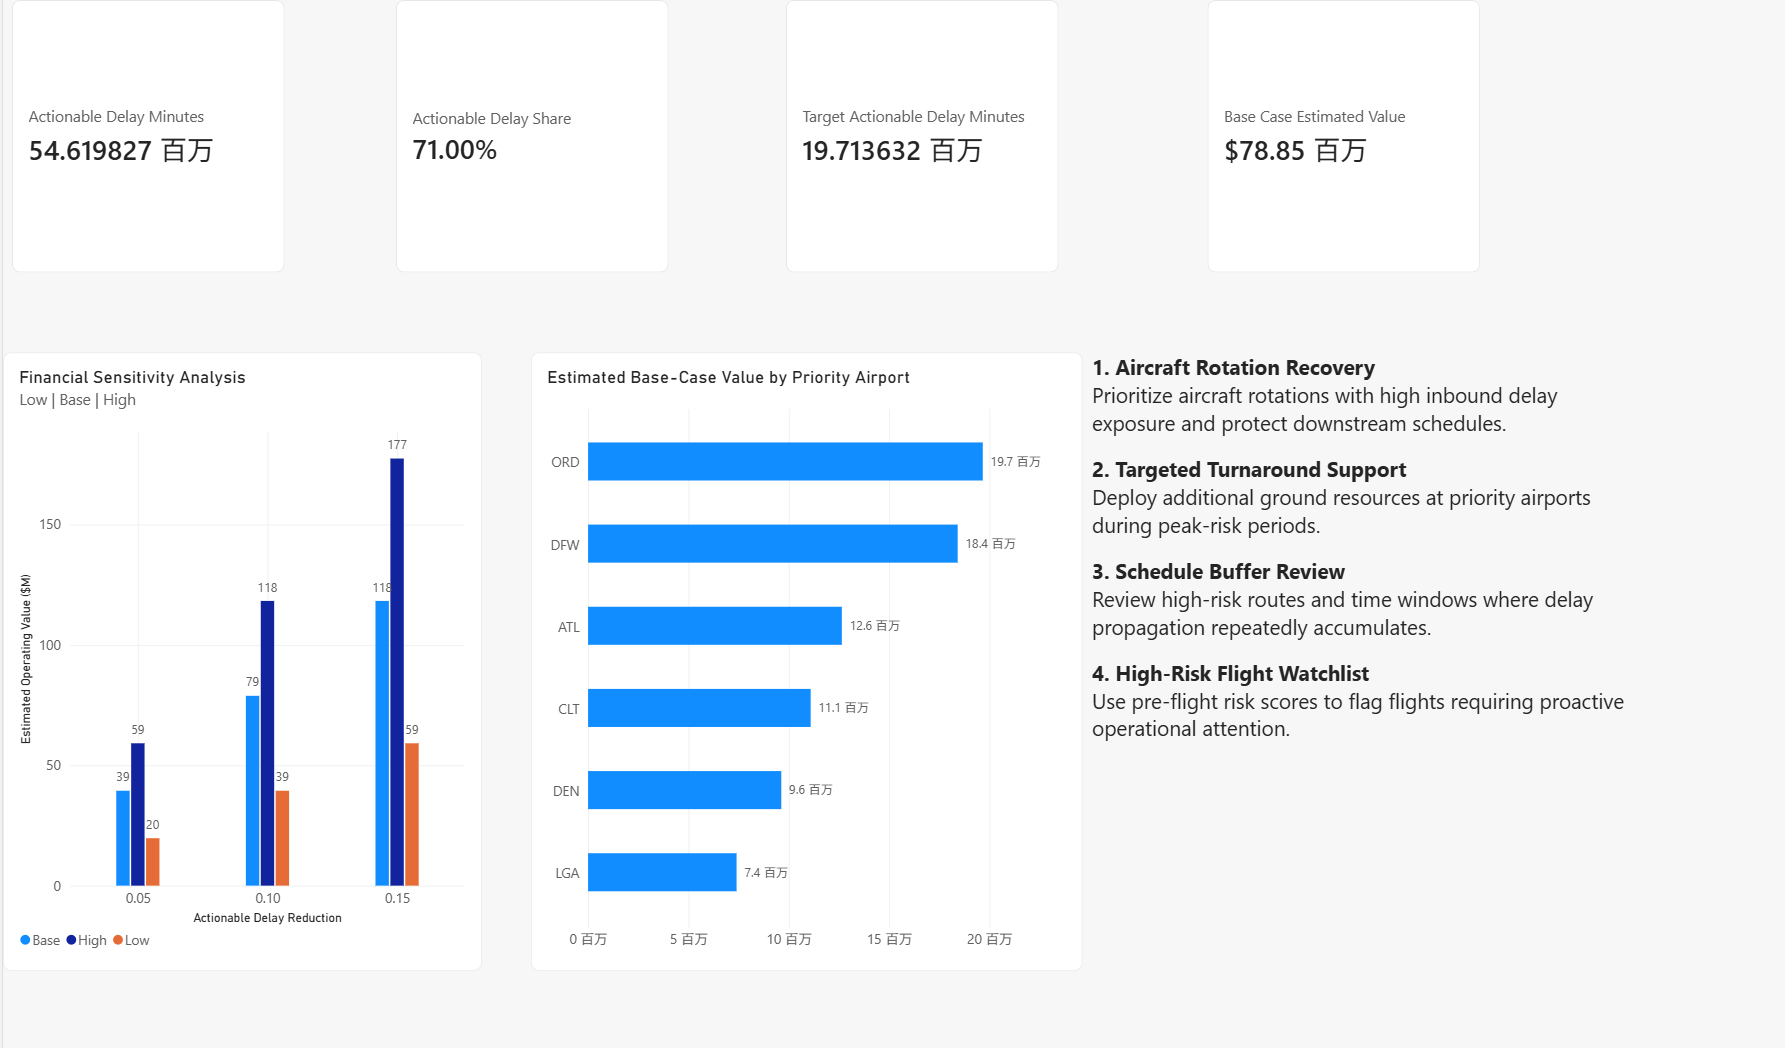

The dashboard page shown, as its layout file describes it:
{"tool":"powerbi","page":{"name":"Intervention & Financial Impact","canvas":[1920,1080],"ordinal":2},"visuals":[{"type":"cardVisual","fields":{"Data":["flight_dashboard.Actionable Delay Minutes"]},"box":[10,0,280,280],"z":0},{"type":"cardVisual","fields":{"Data":["flight_dashboard.Actionable Delay Share"]},"box":[403.3,0,280,280],"z":1000},{"type":"cardVisual","fields":{"Data":["flight_dashboard.Target Actionable Delay Minutes"]},"box":[805,0,280,280],"z":2000},{"type":"cardVisual","fields":{"Data":["flight_dashboard.Base Case Estimated Value"]},"box":[1238.3,0,280,280],"z":3000},{"type":"clusteredColumnChart","title":"Financial Sensitivity Analysis","fields":{"Category":["financial_scenarios.ReductionScenario"],"Series":["financial_scenarios.CostScenario"],"Y":["Sum(financial_scenarios.EstimatedOperatingValueMillions)"]},"box":[0,361.7,491.7,635],"z":4000},{"type":"clusteredBarChart","title":"Estimated Base-Case Value by Priority Airport","fields":{"Category":["airport_priority.Origin"],"Y":["airport_priority.Base Case Value by Airport"]},"box":[543.3,361.7,566.7,635],"z":5000},{"type":"textbox","box":[1120,361.7,566.7,495],"z":5001}]}

Visuals, with their boxes on the page's 1920x1080 design canvas (x1, y1, x2, y2). These are canvas units, not pixel positions in the 1785x1048 screenshot, which may show the page scaled, cropped or inside an application window:
cardVisual - flight_dashboard.Actionable Delay Minutes: {"x1": 10, "y1": 0, "x2": 290, "y2": 280}
cardVisual - flight_dashboard.Actionable Delay Share: {"x1": 403, "y1": 0, "x2": 683, "y2": 280}
cardVisual - flight_dashboard.Target Actionable Delay Minutes: {"x1": 805, "y1": 0, "x2": 1085, "y2": 280}
cardVisual - flight_dashboard.Base Case Estimated Value: {"x1": 1238, "y1": 0, "x2": 1518, "y2": 280}
"Financial Sensitivity Analysis" clusteredColumnChart: {"x1": 0, "y1": 362, "x2": 492, "y2": 997}
"Estimated Base-Case Value by Priority Airport" clusteredBarChart: {"x1": 543, "y1": 362, "x2": 1110, "y2": 997}
textbox: {"x1": 1120, "y1": 362, "x2": 1687, "y2": 857}
